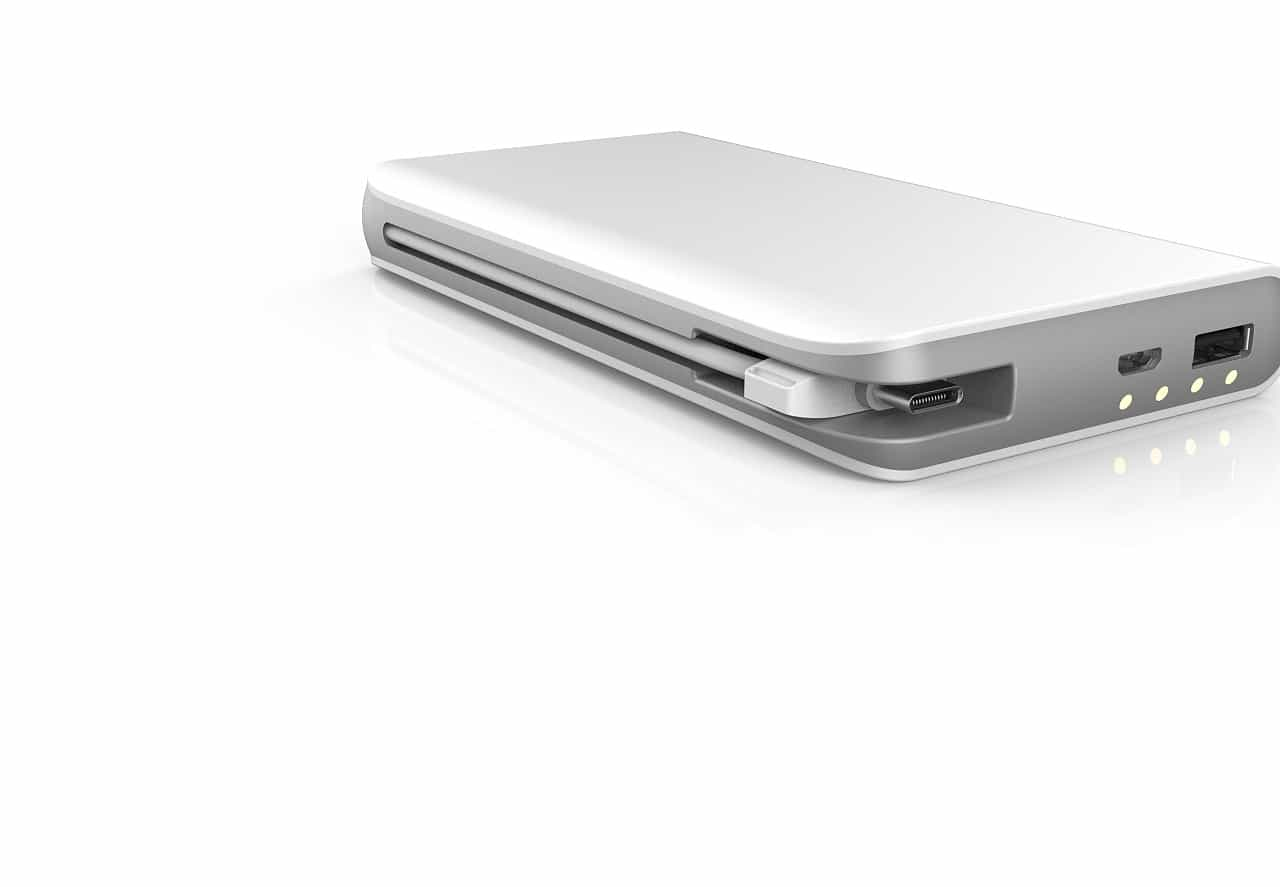power_bank: (349, 117, 1273, 499)
